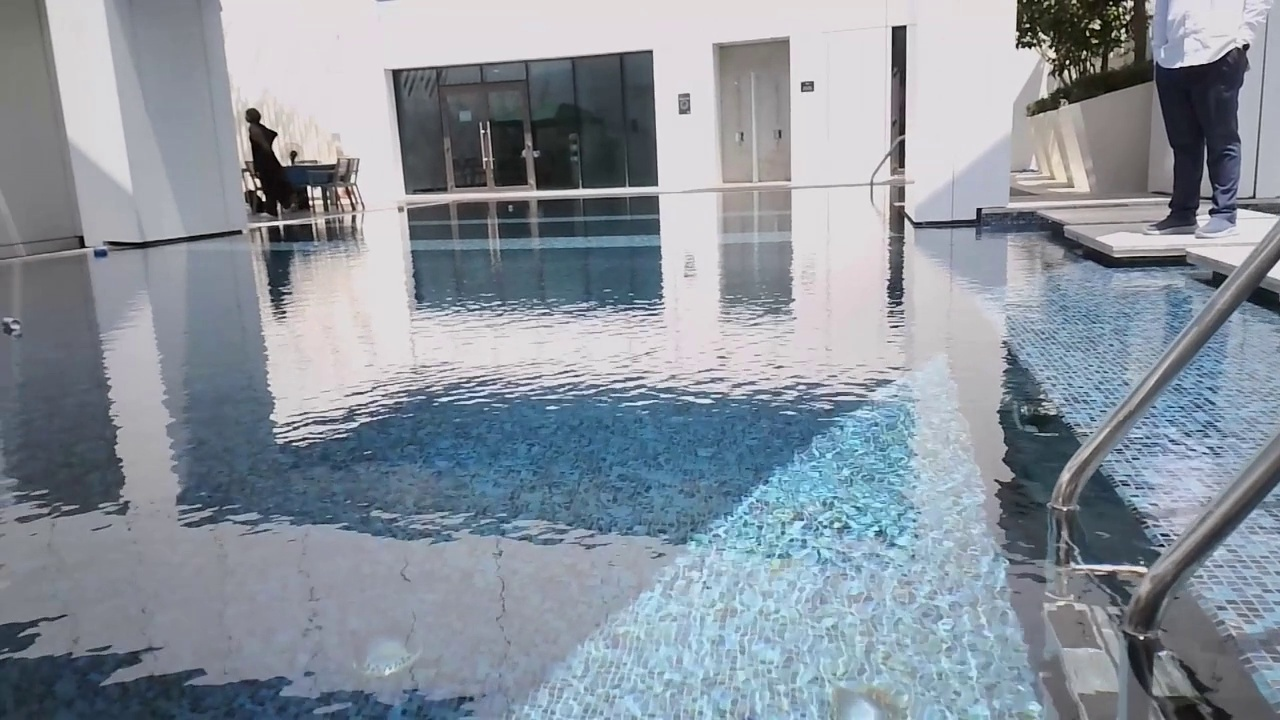debris: (0, 310, 25, 339), (91, 242, 112, 261), (392, 200, 409, 217), (503, 202, 516, 214)
